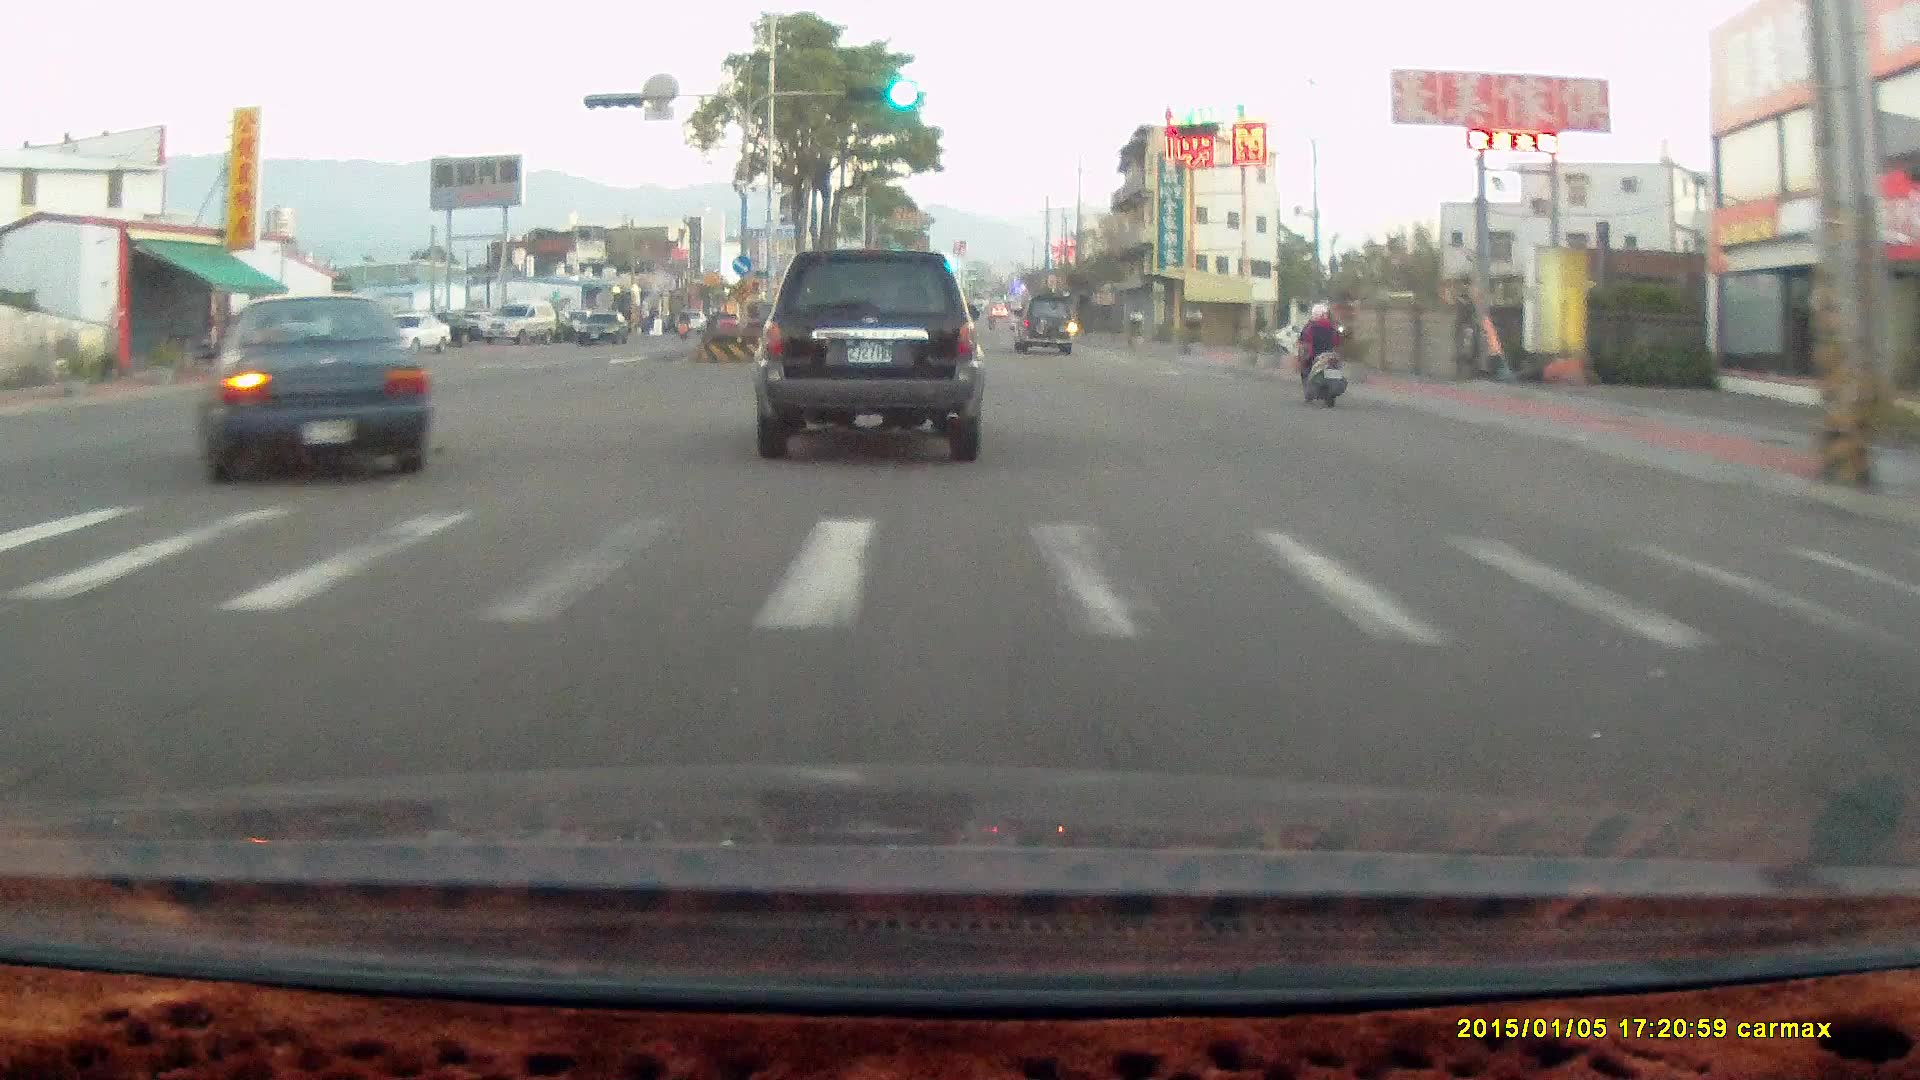rider: (1284, 291, 1359, 418), (1293, 297, 1348, 408)
vehicle: (179, 289, 428, 490), (761, 248, 991, 461), (752, 246, 981, 458), (195, 292, 431, 484), (1018, 294, 1079, 361), (367, 311, 455, 355), (1012, 293, 1076, 352), (367, 310, 454, 354), (477, 302, 557, 349), (478, 298, 556, 343), (577, 311, 631, 348), (576, 310, 630, 346)
